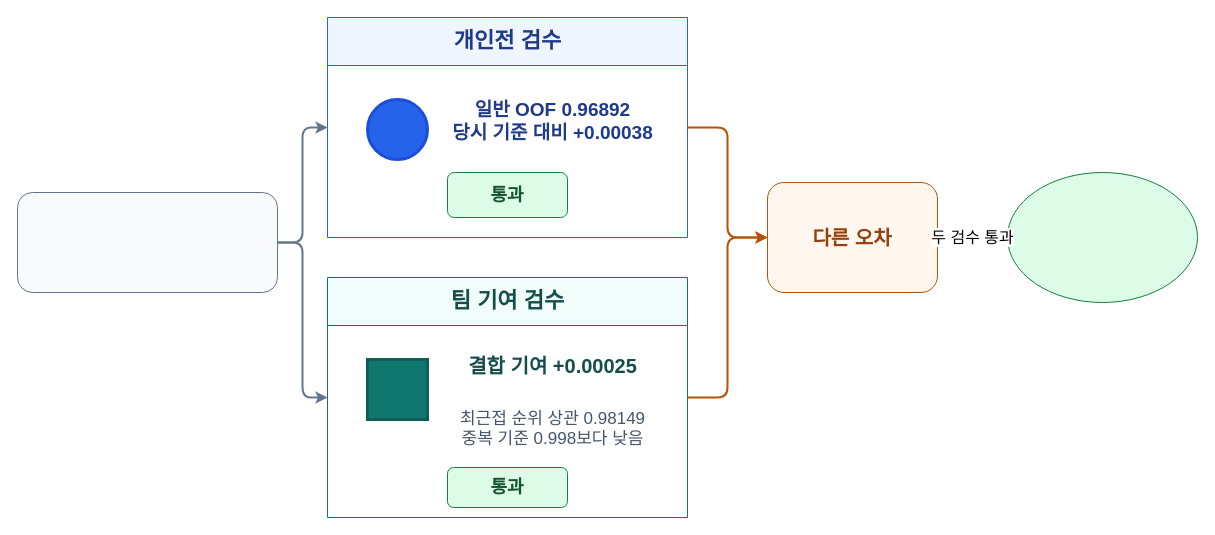
Image size: 1215x535. Some labels were removed from this diagram. The shapes that lost their labels are listed below. From the top down, each one's box as (x1, y1, x2, y2) in pixels, then its label:
(16, 192, 278, 292): Lookup-Transformer
(1006, 172, 1198, 302): ○ 후보 풀
